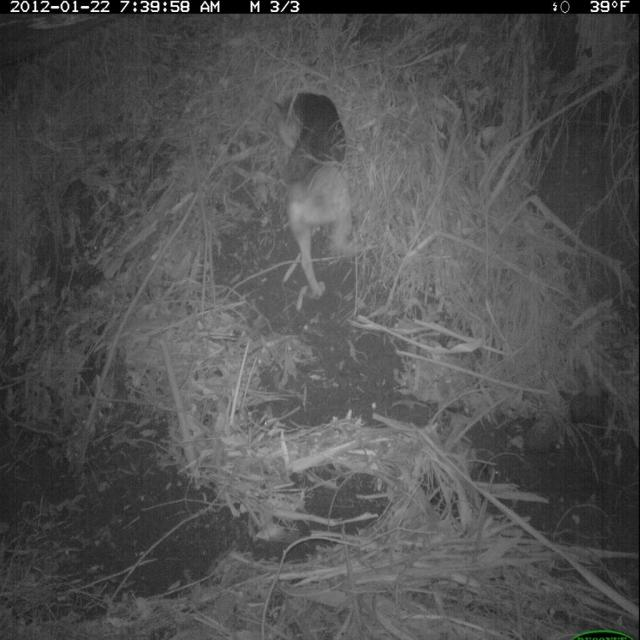dog: (269, 84, 380, 306)
